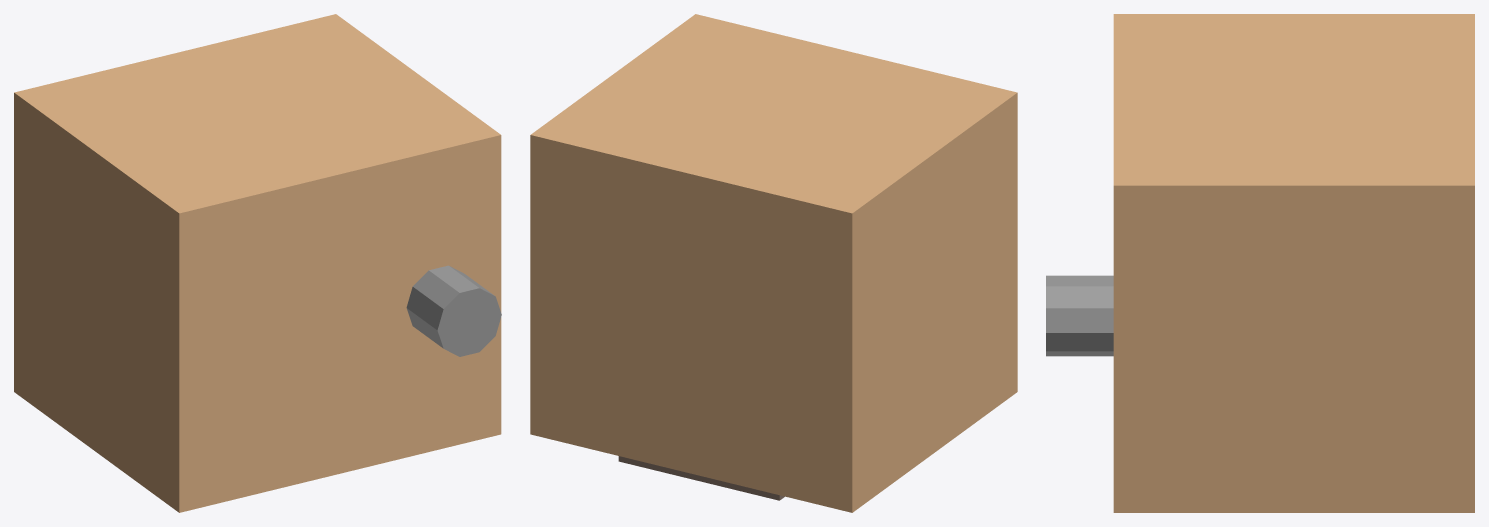
File: oven.glb
The picture shows the model from 3 angles, left to right: view 1: azimuth 30°, elevation 25°; view 2: azimuth 150°, elevation 25°; view 3: azimuth 270°, elevation 25°; orthographic projection. The views are drawn at different scales.
Parts seen in each view (by area): view 1: body, chimney; view 2: body, opening; view 3: body, chimney.
Part boxes in pixels (x1,y1,x2,y2): body: (14, 14, 501, 512); chimney: (406, 265, 501, 356); body: (530, 14, 1017, 512); opening: (618, 456, 784, 500); body: (1113, 14, 1474, 512); chimney: (1046, 275, 1113, 356).
Size of the model in its own units: 1.8 by 1.67 by 1.9.
